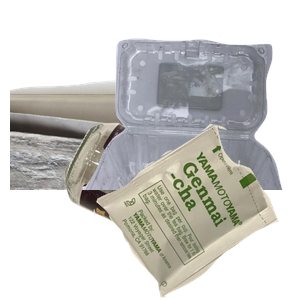glass: (62, 120, 300, 300)
paper: (10, 77, 250, 257)
plastic: (80, 36, 300, 216)
trash: (91, 124, 300, 300)
